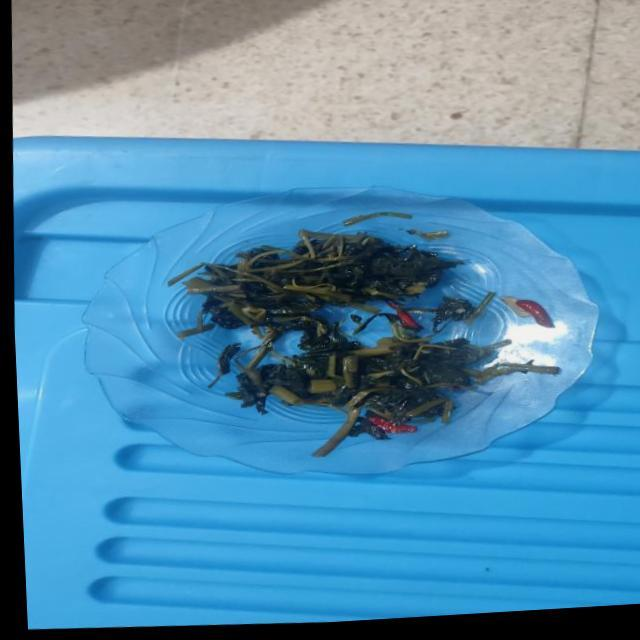tumis_kangkung: (226, 338, 494, 457), (183, 230, 462, 328)
